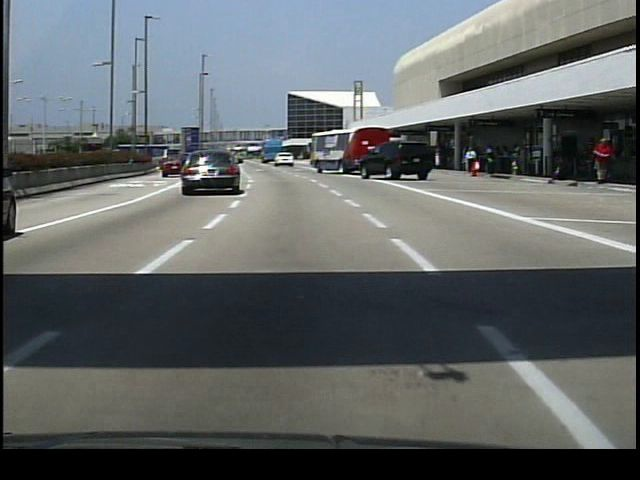person: (591, 136, 616, 186), (464, 144, 480, 179)
